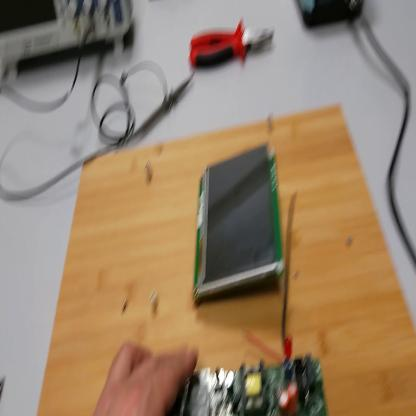hand: (91, 342, 200, 416)
low voltage board: (164, 183, 335, 416)
oscilloscope: (2, 1, 134, 82)
oscilloscope probe tip: (122, 70, 196, 144)
pliers: (190, 19, 278, 70)
welder station: (296, 2, 364, 32)
working area: (36, 105, 416, 414)
